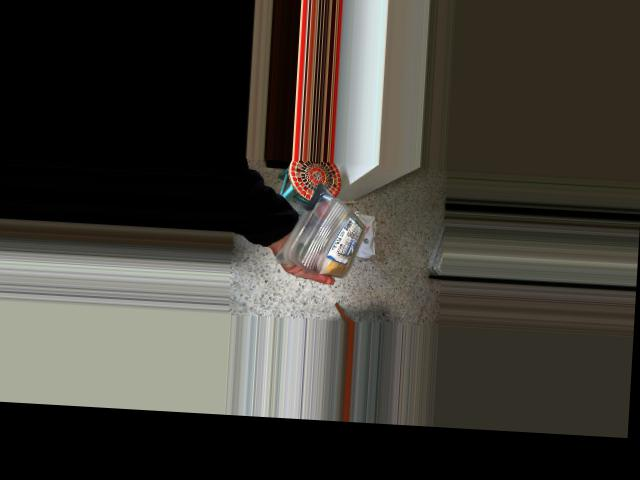cheese: (275, 176, 386, 277)
